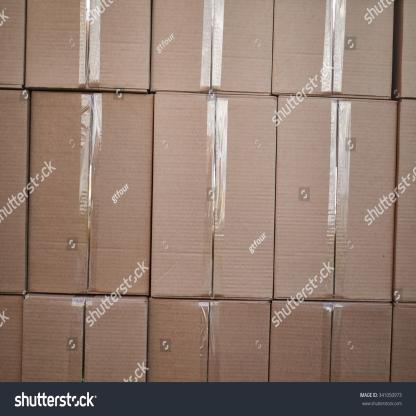box: (150, 94, 277, 304), (274, 95, 398, 302), (27, 91, 150, 294), (273, 0, 394, 98), (25, 0, 151, 92), (150, 0, 272, 95), (21, 296, 148, 382), (146, 298, 270, 382), (270, 301, 393, 383)
